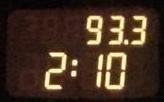-: (123, 38, 128, 45)
0: (103, 51, 127, 89)
1: (94, 53, 103, 88)
2: (43, 51, 66, 89)
3: (107, 14, 124, 44), (129, 14, 146, 44)
9: (85, 14, 102, 44)
X: (69, 58, 77, 77)
